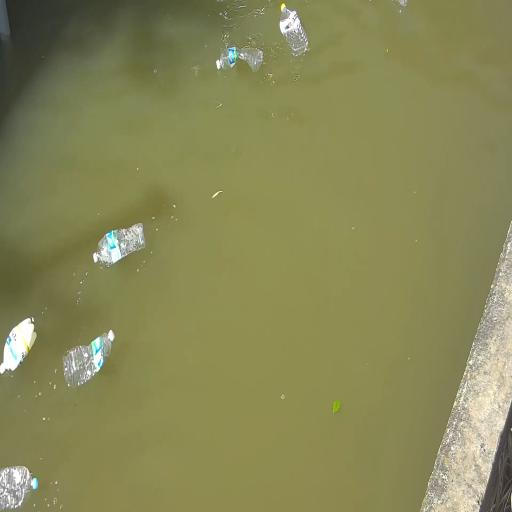plastic: (63, 330, 114, 386), (93, 223, 145, 266), (0, 318, 36, 374), (0, 467, 37, 510), (280, 4, 308, 56), (216, 47, 263, 71)
